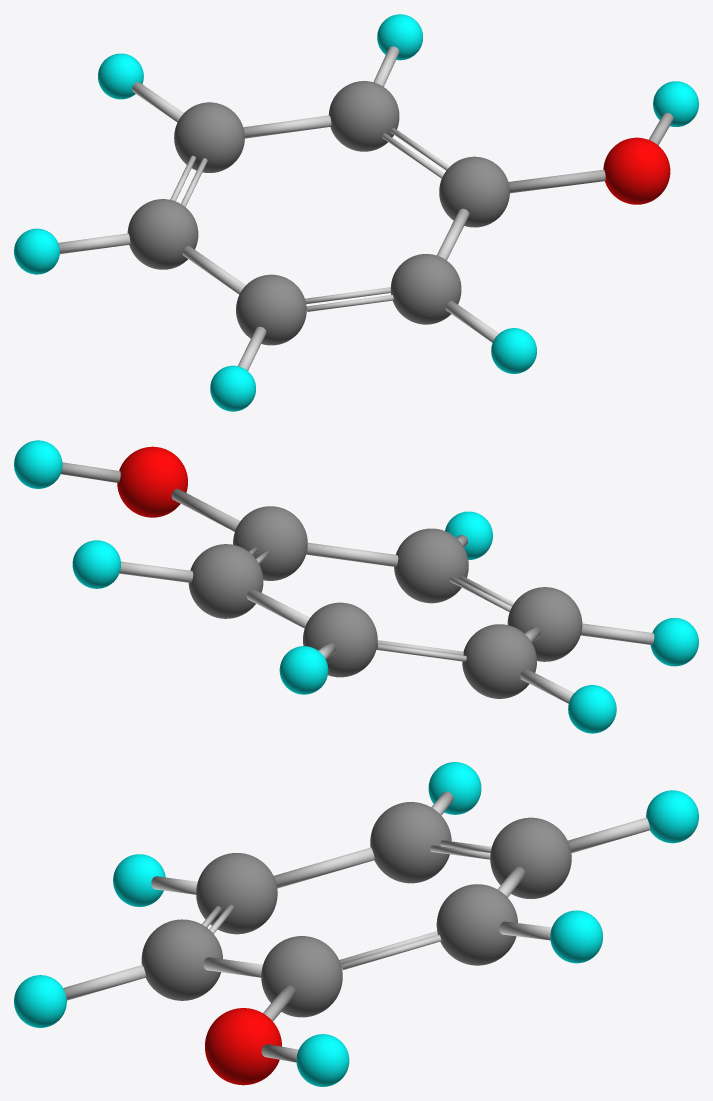
Rendered from phenol.glb.
The picture shows the model from 3 angles, top to bottom: view 1: azimuth 30°, elevation 25°; view 2: azimuth 150°, elevation 25°; view 3: azimuth 270°, elevation 25°; orthographic projection. The views are drawn at different scales.
Visible parts, largest first — view 1: CMAtom_0; view 2: CMAtom_0; view 3: CMAtom_0.
Part boxes in pixels (x1,y1,x2,y2): CMAtom_0: [14, 14, 698, 411]; CMAtom_0: [14, 440, 698, 733]; CMAtom_0: [14, 762, 698, 1086].
Bounding box in the file's own units: 0.6246 × 0.1603 × 0.5179.
